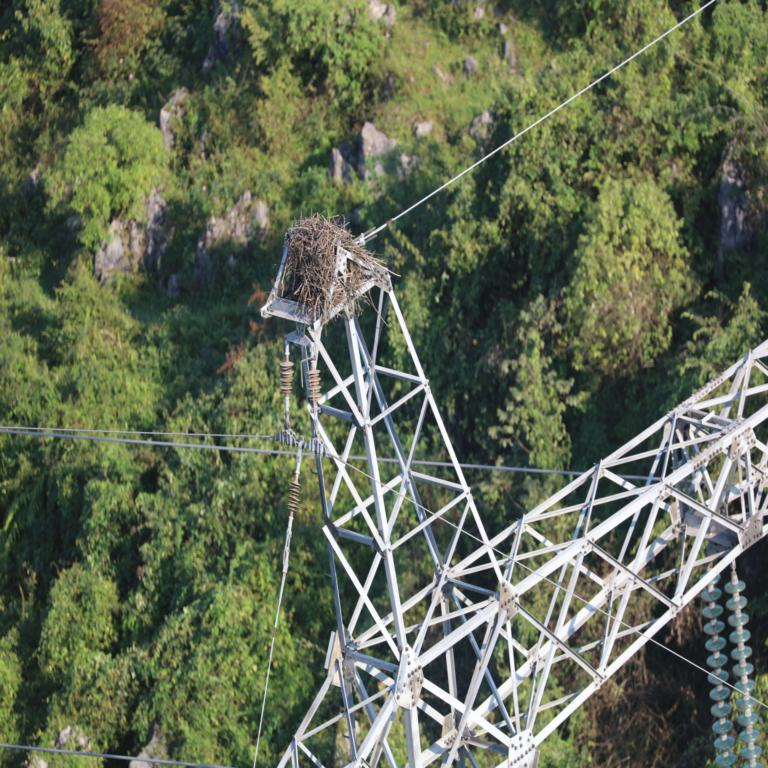nest: (283, 222, 381, 314)
